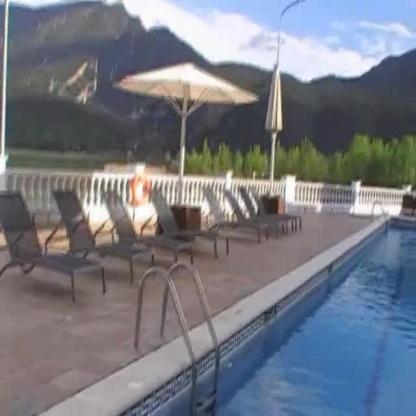other: (90, 162, 314, 207)
